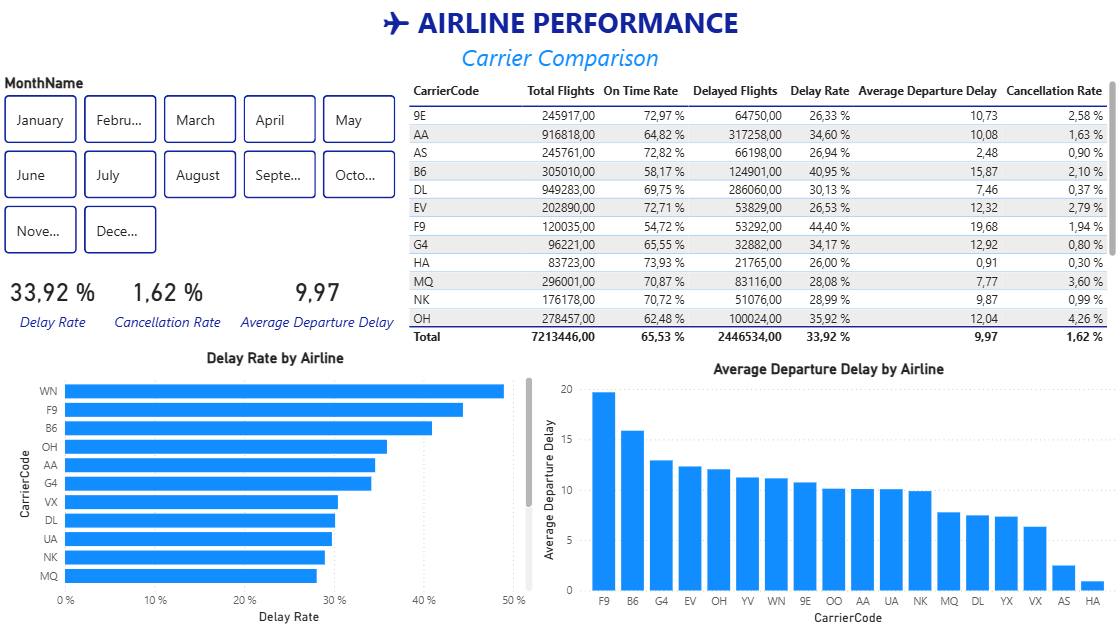

Layout of this report page (visuals, bound fields, positions):
{"tool":"powerbi","page":{"name":"Airline Performance","canvas":[1280,720],"ordinal":3},"visuals":[{"type":"textbox","box":[0,0,1280.3,88.1],"z":0},{"type":"tableEx","fields":{"Values":["DimCarrier.CarrierCode","measure.Total Flights","measure.On Time Rate","measure.Delayed Flights","measure.Delay Rate","measure.Average Departure Delay","measure.Cancellation Rate"]},"box":[460.7,88.1,819.5,312.2],"z":1000},{"type":"advancedSlicerVisual","fields":{"Values":["DimDate.MonthName"]},"box":[0,85.8,460.3,212.7],"z":2000},{"type":"clusteredBarChart","title":"Delay Rate by Airline","fields":{"Category":["DimCarrier.CarrierCode"],"Y":["measure.Delay Rate"]},"box":[16.4,400.3,598,319.7],"z":3000},{"type":"clusteredColumnChart","title":"Average Departure Delay by Airline","fields":{"Category":["DimCarrier.CarrierCode"],"Y":["measure.Average Departure Delay"]},"box":[614.3,412.9,665.9,307.2],"z":4000},{"type":"card","fields":{"Values":["measure.Delay Rate"]},"box":[0,298.6,120.7,90.8],"z":5000},{"type":"card","fields":{"Values":["measure.Cancellation Rate"]},"box":[120.7,298.6,143.1,90.8],"z":6000},{"type":"card","fields":{"Values":["measure.Average Departure Delay"]},"box":[263.7,298.6,196.5,90.8],"z":7000}]}

Visuals, with their boxes in screenshot pixels (x1, y1, x2, y2), scaled from the page's 1280x720 canvas onto the 1120x628 screenshot:
textbox: region(0, 0, 1119, 77)
tableEx - DimCarrier.CarrierCode x measure.Total Flights: region(403, 77, 1119, 349)
advancedSlicerVisual - DimDate.MonthName: region(0, 75, 403, 260)
"Delay Rate by Airline" clusteredBarChart: region(14, 349, 538, 627)
"Average Departure Delay by Airline" clusteredColumnChart: region(538, 360, 1119, 627)
card - measure.Delay Rate: region(0, 260, 106, 340)
card - measure.Cancellation Rate: region(106, 260, 231, 340)
card - measure.Average Departure Delay: region(231, 260, 403, 340)
